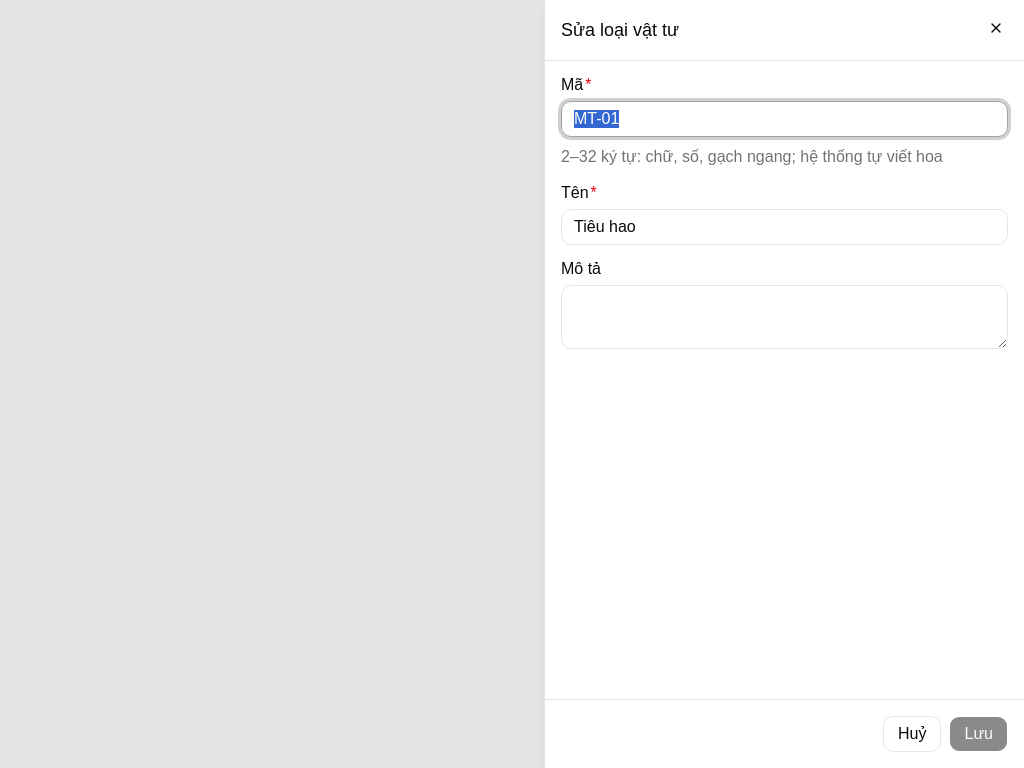
MaterialTypeFormSheet › sửa: 100603 (tên trùng) → lỗi tại ô Tên
The width and height of the screenshot is (1024, 768).
Replace the text in the field labelled "Tên *" with "Hoá chất" at (784, 227), box [561,209,1008,245]
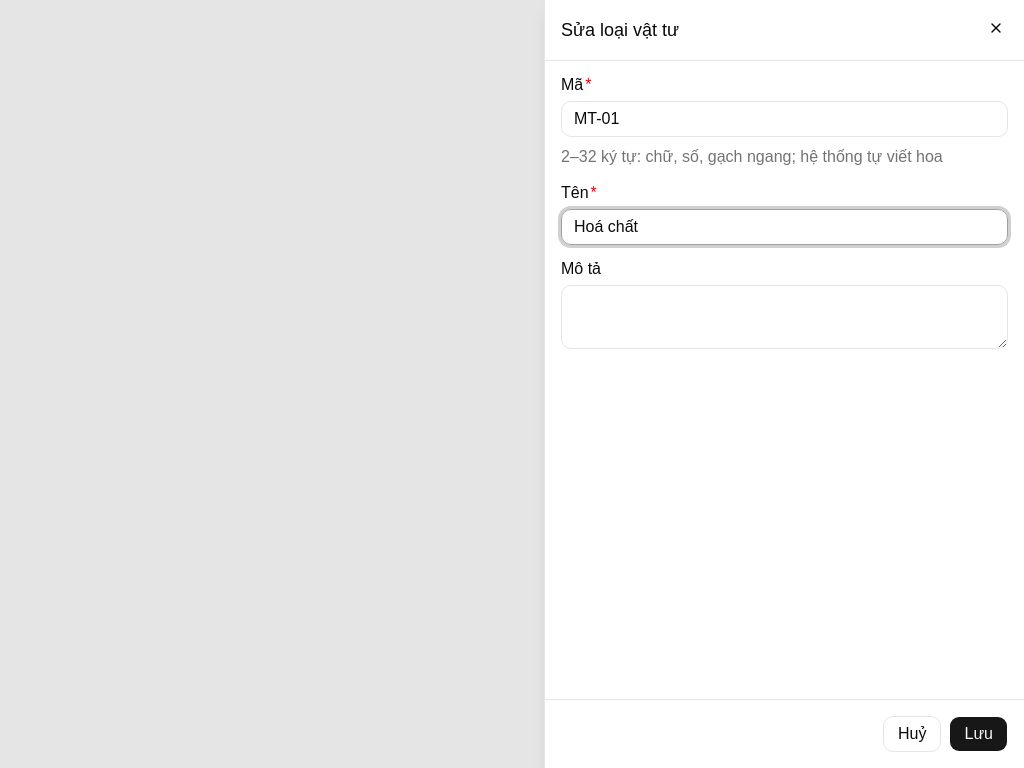
Click the button "Lưu" at (979, 734), box [950,716,1008,752]
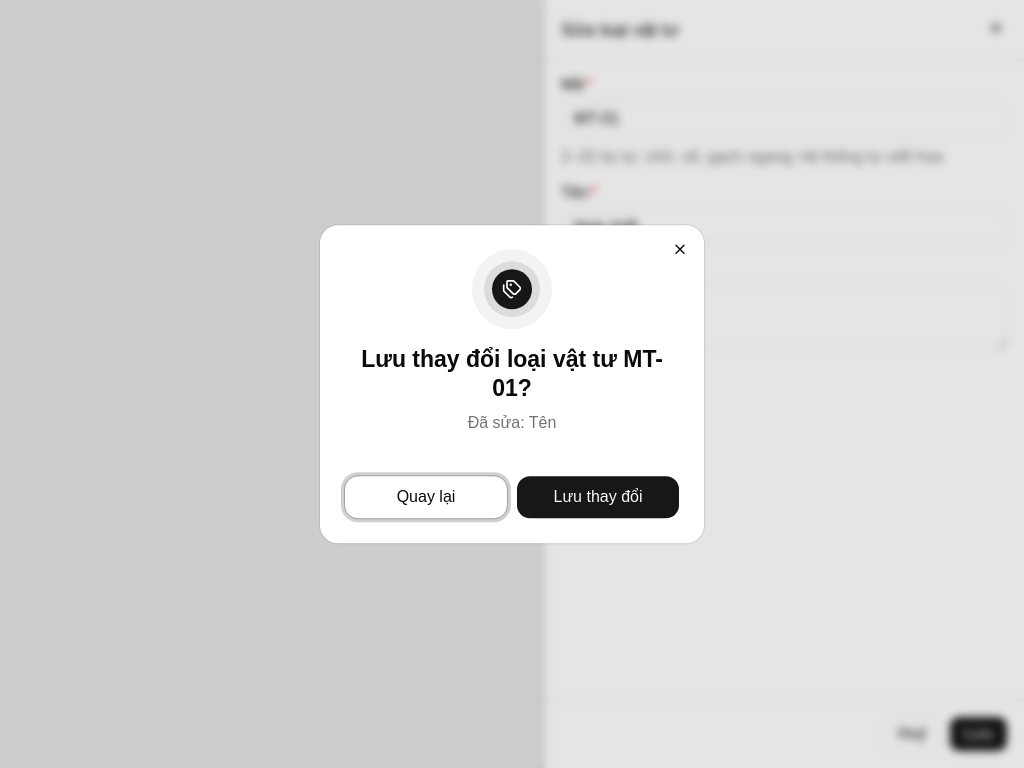
Click the button "Lưu thay đổi" at (598, 497), box [516,475,680,519]
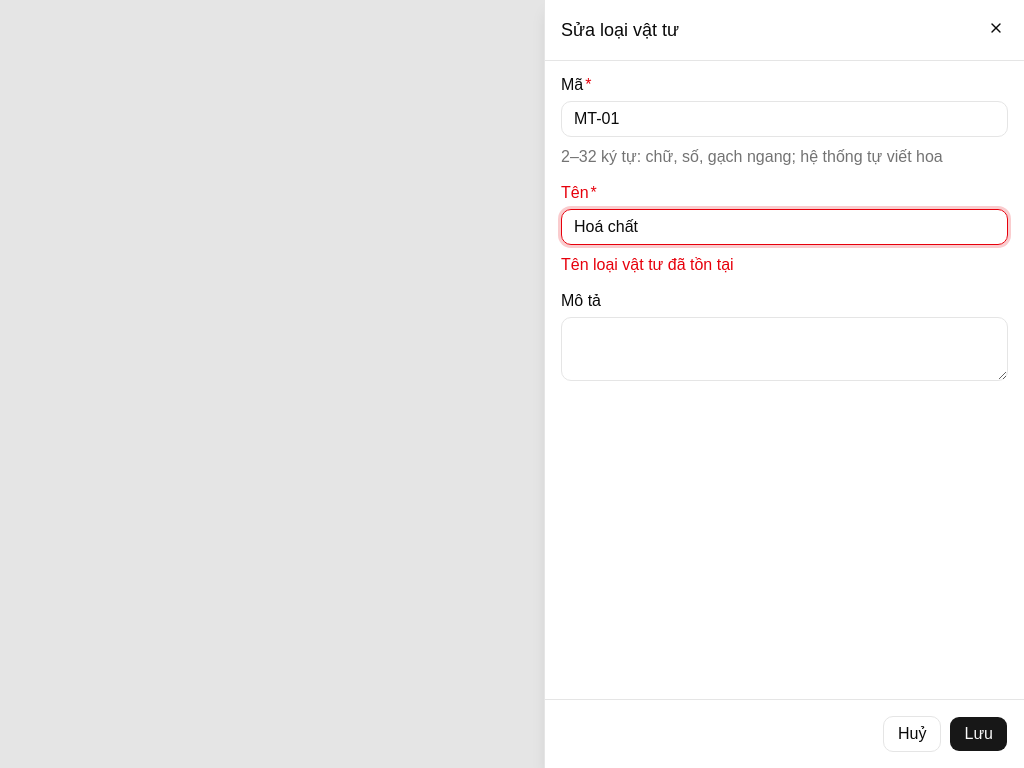
Check: the text "Tên loại vật tư đã tồn tại" is shown, box [561,256,734,273]
